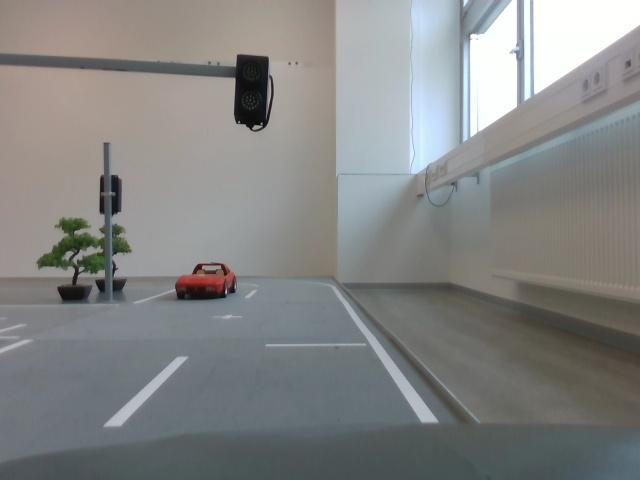car: (175, 261, 239, 306)
potted plant: (35, 218, 109, 307), (91, 224, 137, 298)
traffic light: (234, 49, 280, 133), (97, 174, 127, 219)
